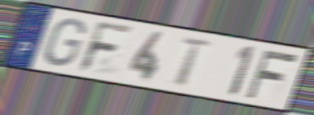1: (227, 44, 257, 99)
4: (126, 30, 165, 84)
F: (76, 19, 137, 75), (244, 48, 302, 101)
G: (42, 17, 87, 68)
T: (173, 36, 213, 90)
